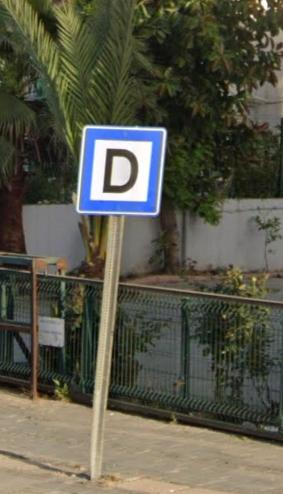station: (86, 125, 165, 206)
